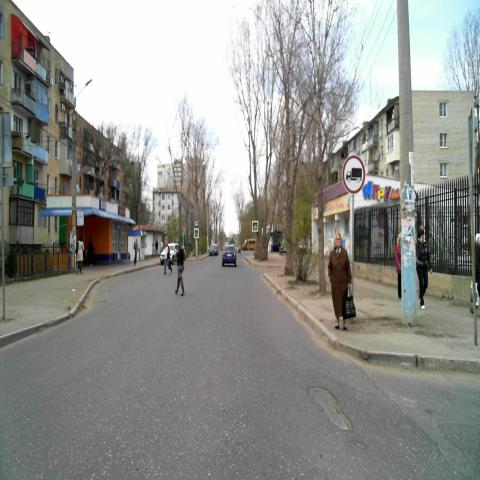3_4_1: (341, 154, 365, 194)
